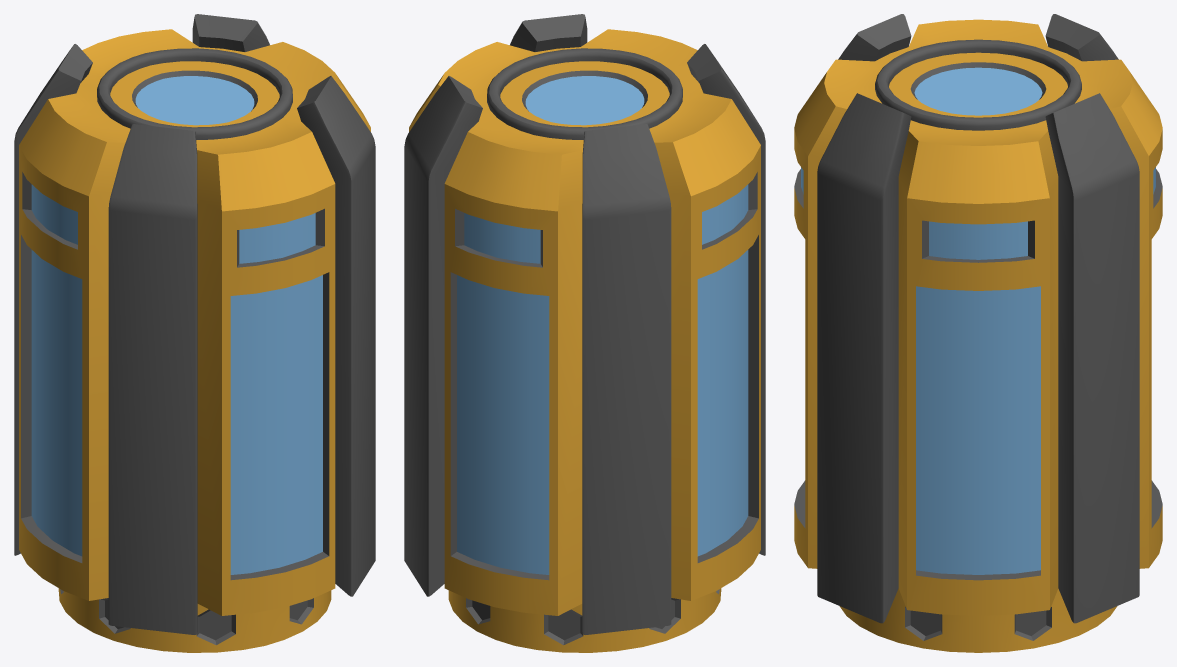
Rendered from augment_container.glb.
3 renders of one model, left to right at view 1: azimuth 30°, elevation 25°; view 2: azimuth 150°, elevation 25°; view 3: azimuth 270°, elevation 25°, orthographic.
Visible parts, largest first — view 1: AugmentContainer; view 2: AugmentContainer; view 3: AugmentContainer.
Part boxes in pixels (x1,y1,x2,y2): AugmentContainer: (14,14,375,652); AugmentContainer: (404,14,765,652); AugmentContainer: (794,14,1162,652).
Bounding box in the file's own units: 0.4142 × 0.6764 × 0.4249.
